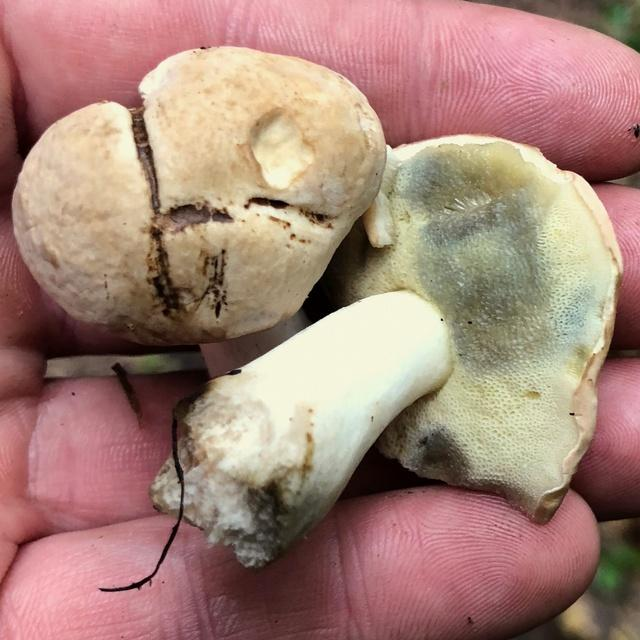edible_mushroom: (141, 130, 623, 572), (10, 43, 387, 346)
